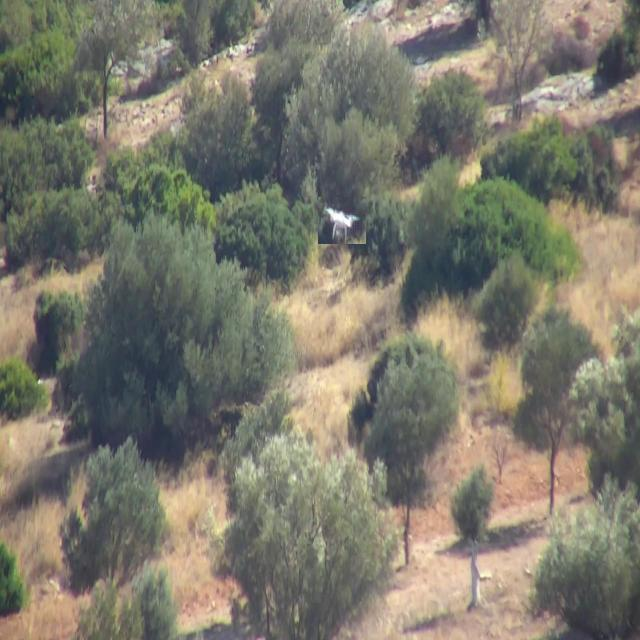drone: (318, 197, 366, 244)
